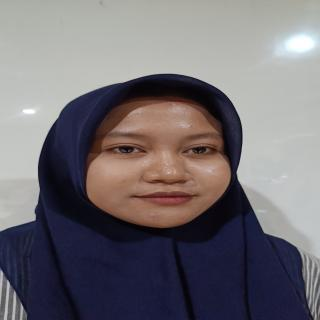Netral: (72, 93, 240, 237)
